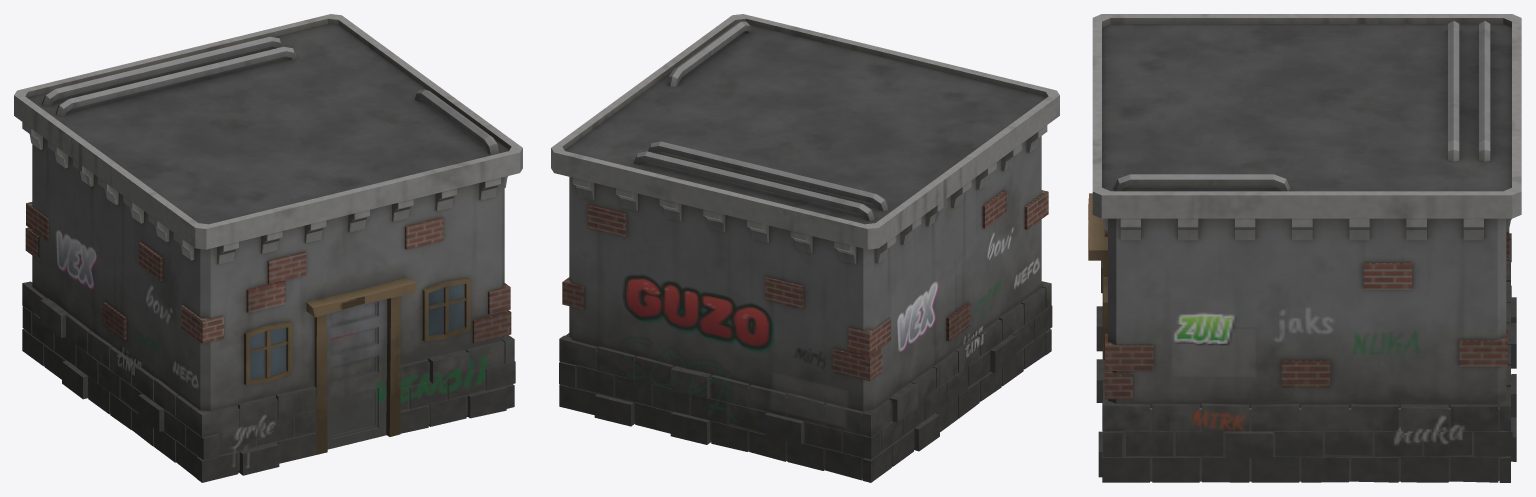
The model's file is 1Story.glb.
3 renders of one model, left to right at view 1: azimuth 30°, elevation 25°; view 2: azimuth 150°, elevation 25°; view 3: azimuth 270°, elevation 25°, orthographic. The views are drawn at different scales.
Visible parts, largest first — view 1: 1Story_low; view 2: 1Story_low; view 3: 1Story_low.
Part boxes in pixels (x1,y1,x2,y2): 1Story_low: (14, 14, 522, 482); 1Story_low: (551, 14, 1059, 482); 1Story_low: (1088, 14, 1521, 482).
Size of the model in its own units: 2.15 by 1.67 by 2.17.
Materials: 2 (2 with a texture image).
